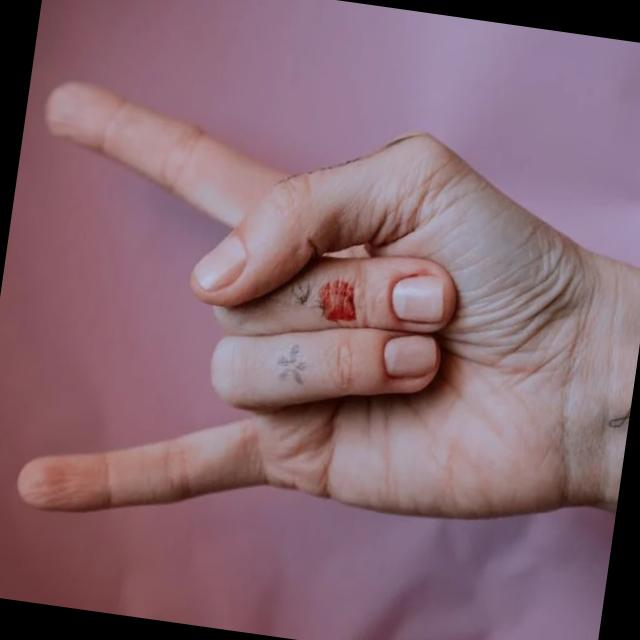Nail: (195, 234, 246, 290), (391, 274, 445, 322), (383, 334, 437, 377)
